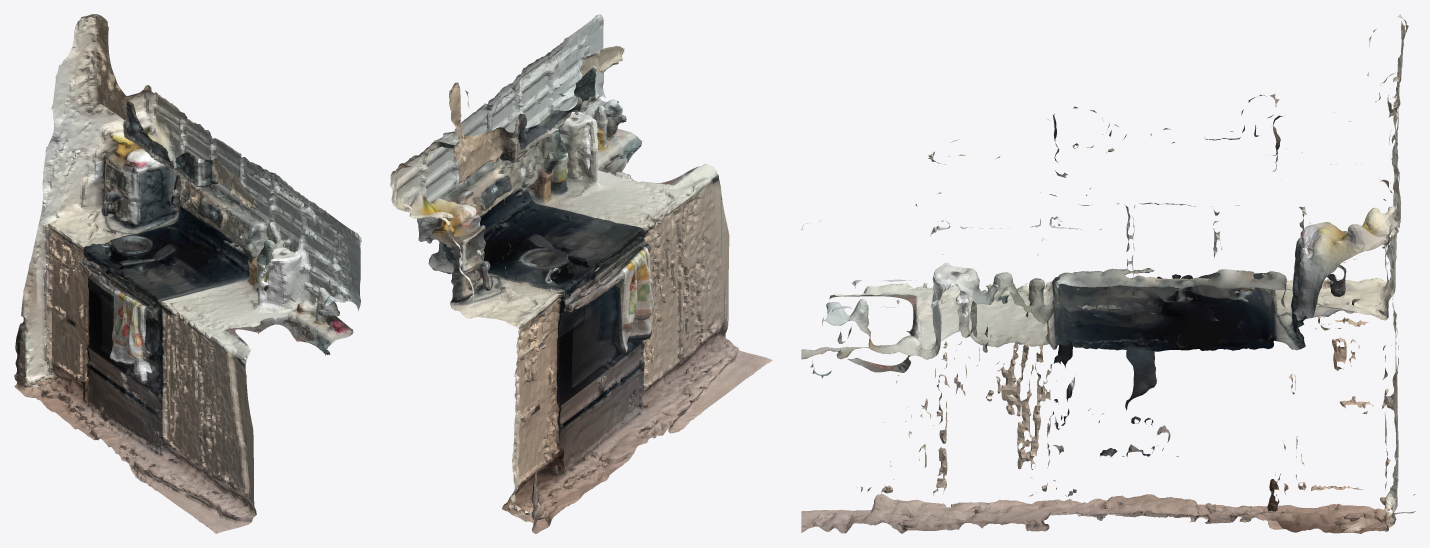
The model's file is trailside_kitchen.glb.
The picture shows the model from 3 angles, left to right: view 1: azimuth 30°, elevation 25°; view 2: azimuth 150°, elevation 25°; view 3: azimuth 270°, elevation 25°; orthographic projection. The views are drawn at different scales.
Size of the model in its own units: 0.8518 by 2.02 by 2.04.
1 material, 1 textured.
